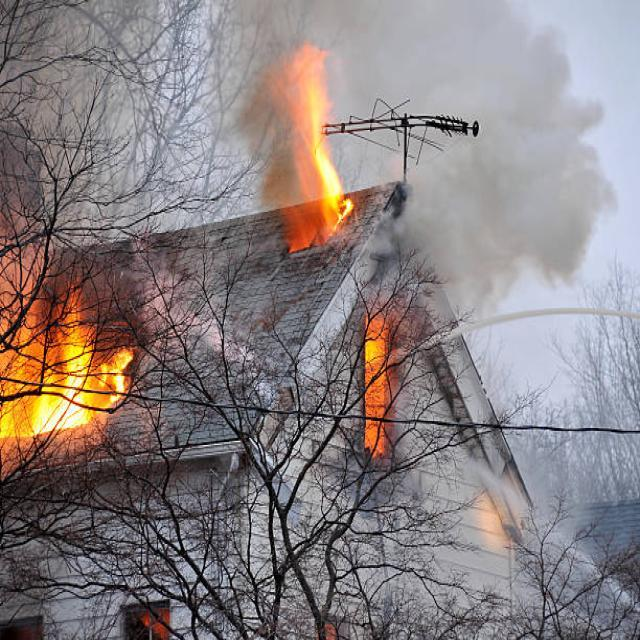Fire: (0, 280, 135, 436), (273, 48, 353, 254), (363, 310, 391, 458)
Smoke: (358, 0, 612, 309)
